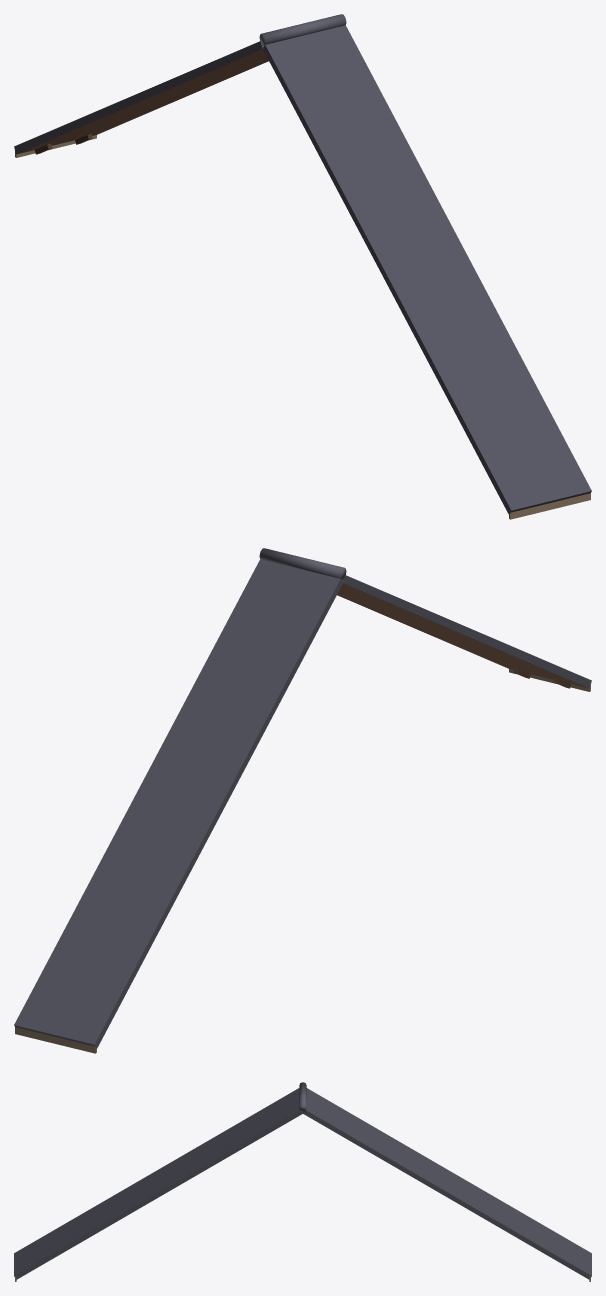
File: kit_clapboard_slate_w10.glb
3 views of the same model, one above another, from view 1: azimuth 30°, elevation 25°; view 2: azimuth 150°, elevation 25°; view 3: azimuth 270°, elevation 25° (orthographic). The views are drawn at different scales.
Visible parts, largest first — view 1: kit_clapboard_slate_w10; view 2: kit_clapboard_slate_w10; view 3: kit_clapboard_slate_w10.
Part boxes in pixels (x1,y1,x2,y2): kit_clapboard_slate_w10: [14, 14, 591, 519]; kit_clapboard_slate_w10: [14, 548, 591, 1053]; kit_clapboard_slate_w10: [14, 1082, 591, 1281].
Size of the model in its own units: 1 by 3.61 by 10.7.
